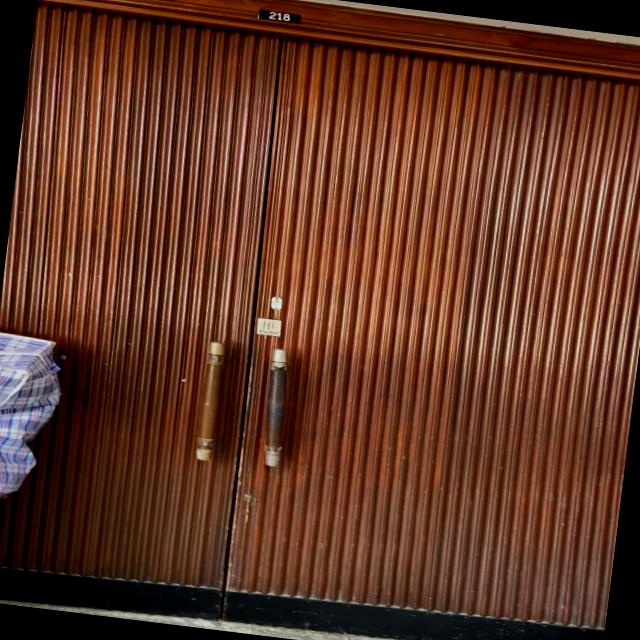room218: (254, 5, 305, 25)
